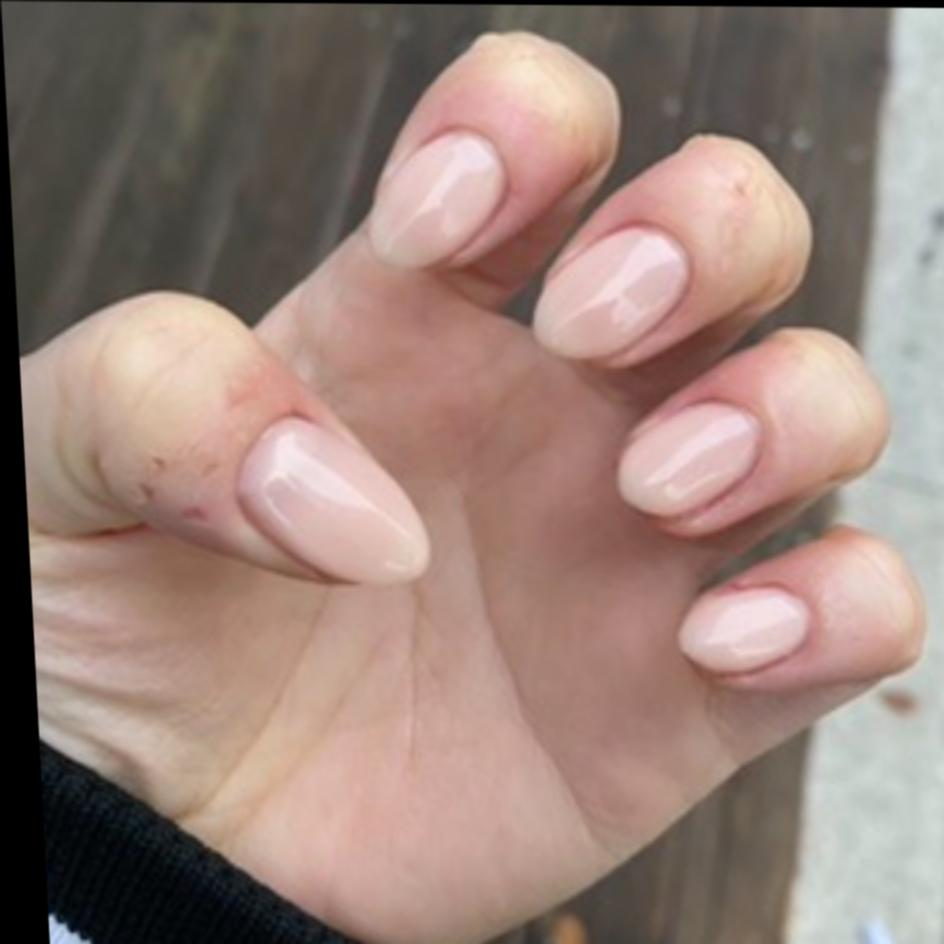nail: (231, 412, 433, 586), (526, 218, 699, 363), (361, 123, 514, 270), (611, 393, 769, 520), (674, 580, 815, 677)
